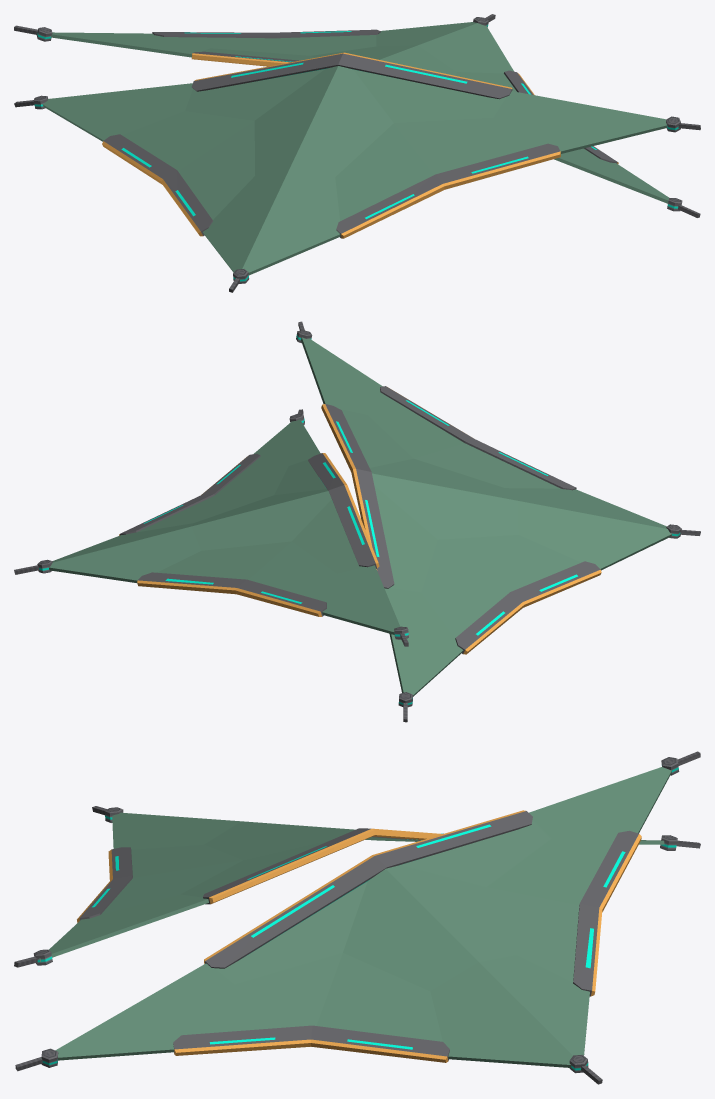
Rendered from SM_Prop_Canopy_04.fbx.
3 renders of one model, top to bottom at view 1: azimuth 30°, elevation 25°; view 2: azimuth 150°, elevation 25°; view 3: azimuth 270°, elevation 25°, orthographic. The views are drawn at different scales.
Visible parts, largest first — view 1: SM_Prop_Canopy_04; view 2: SM_Prop_Canopy_04; view 3: SM_Prop_Canopy_04.
Part boxes in pixels (left/top/right/bottom): SM_Prop_Canopy_04: left=14, top=14, right=700, bottom=292; SM_Prop_Canopy_04: left=14, top=321, right=700, bottom=722; SM_Prop_Canopy_04: left=14, top=751, right=700, bottom=1084.
Size of the model in its own units: 720 by 156 by 757.
